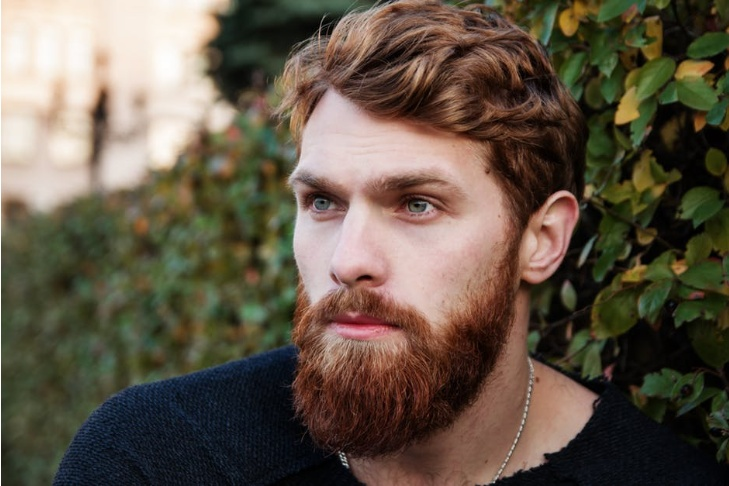face: (290, 92, 519, 382)
